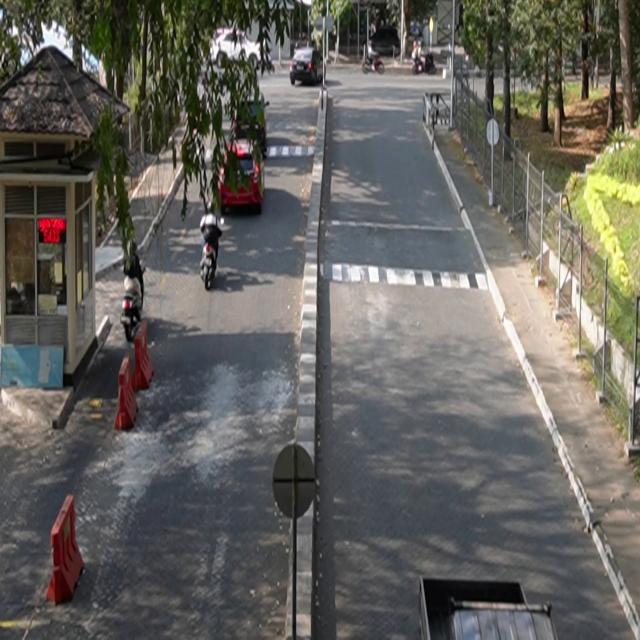car: (291, 49, 327, 87)
